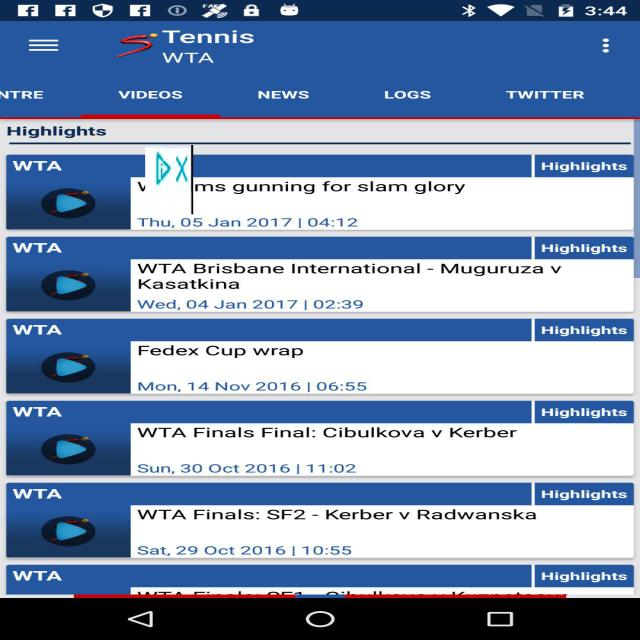sneaking: (145, 145, 193, 214)
